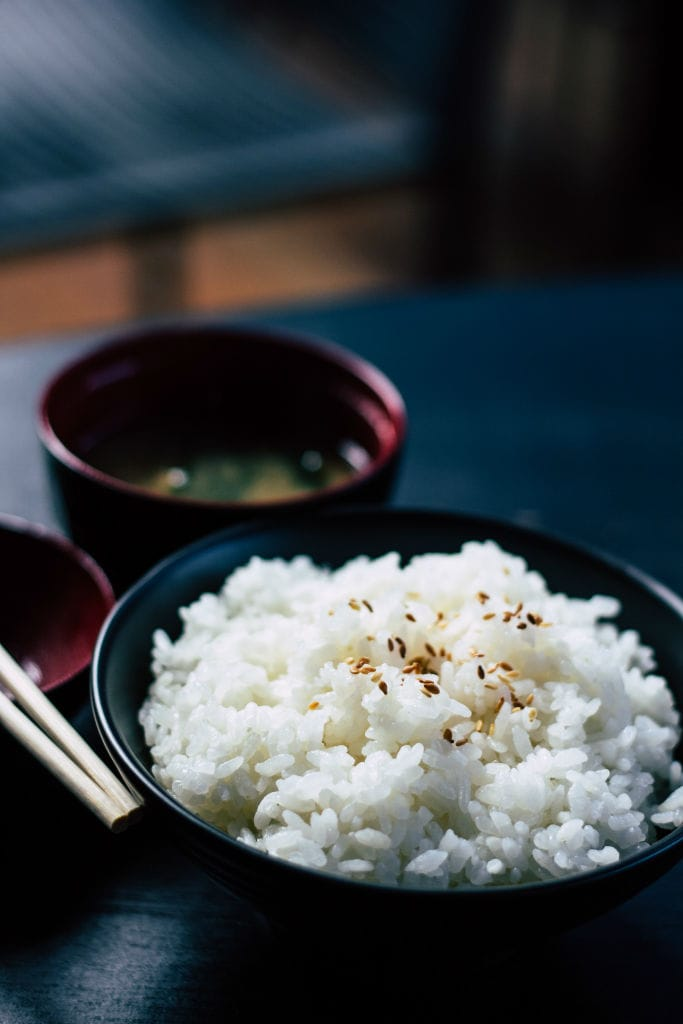ssalbab: (132, 529, 683, 895)
